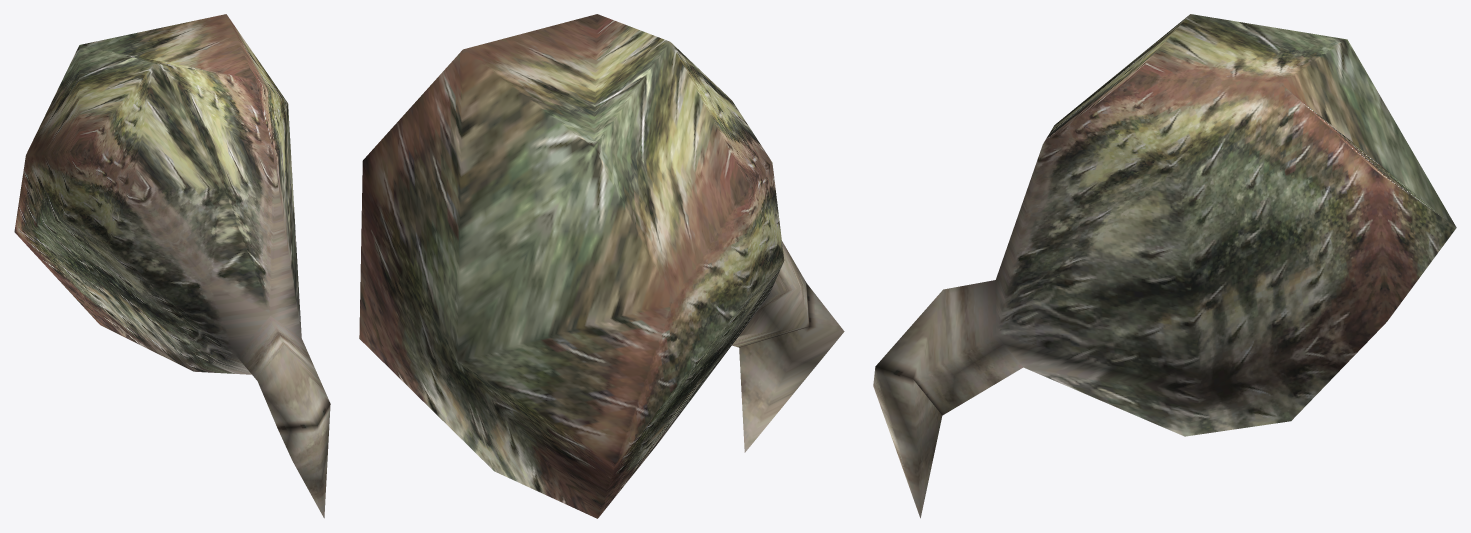
The model's file is succ_lok_hairmay_cactus_a2_l1.fbx.
The picture shows the model from 3 angles, left to right: view 1: azimuth 30°, elevation 25°; view 2: azimuth 150°, elevation 25°; view 3: azimuth 270°, elevation 25°; orthographic projection. The views are drawn at different scales.
Visible parts, largest first — view 1: mesh_node; view 2: mesh_node; view 3: mesh_node.
Part boxes in pixels (<box>): mesh_node: <box>14,14,330,518</box>; mesh_node: <box>359,14,844,518</box>; mesh_node: <box>873,14,1456,518</box>.
Bounding box in the file's own units: 0.9802 × 1.69 × 1.9.
Materials: 1 (1 with a texture image).
